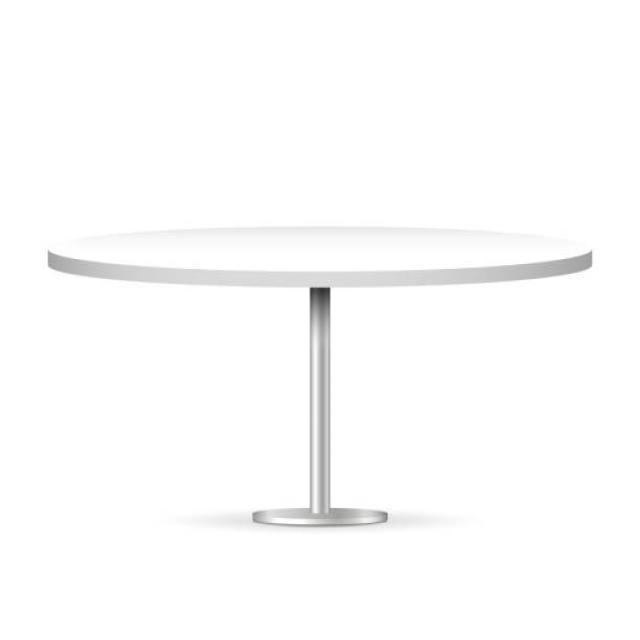table: (46, 223, 593, 527)
